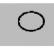no answer: (17, 9, 47, 32)
